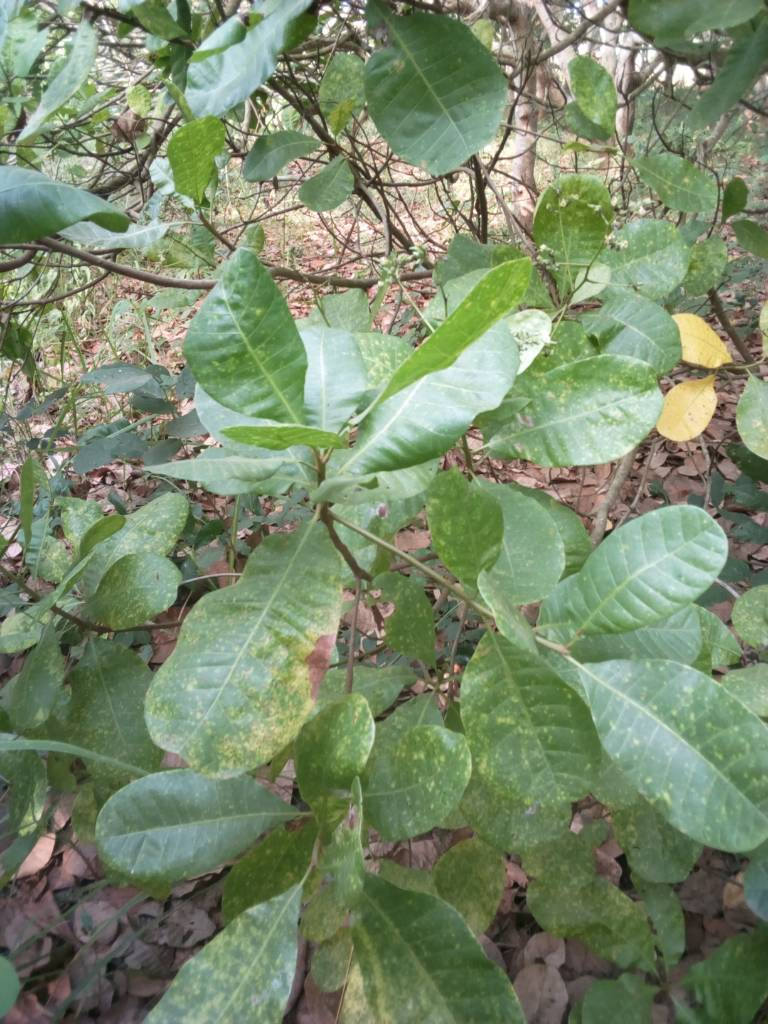Alternariose: (141, 525, 338, 778), (577, 650, 765, 855), (457, 632, 605, 803), (474, 355, 655, 466), (222, 811, 365, 949), (524, 850, 655, 964), (291, 691, 375, 803)
